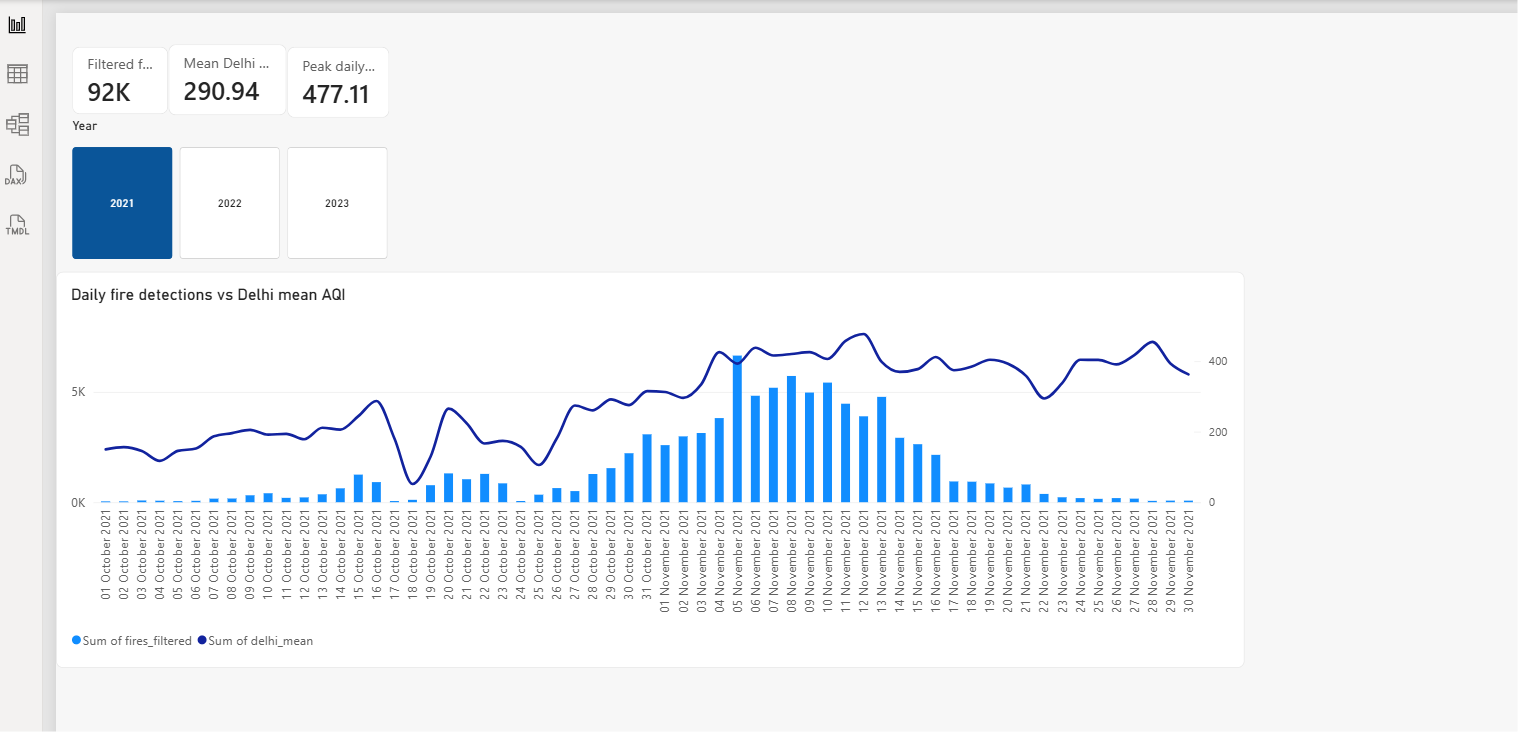

Layout of this report page (visuals, bound fields, positions):
{"tool":"powerbi","page":{"name":"Page 1","canvas":[1920,1080],"ordinal":0},"visuals":[{"type":"advancedSlicerVisual","fields":{"Values":["aqi_fire_daily.Year"]},"box":[18.3,118.3,357.7,159.2],"z":0},{"type":"cardVisual","fields":{"Data":["Sum(aqi_fire_daily.fires_filtered)"]},"box":[18.3,38,108.5,76.1],"z":1},{"type":"cardVisual","fields":{"Data":["Avg(aqi_fire_daily.delhi_mean)"]},"box":[126.8,35.2,133.8,80.3],"z":2},{"type":"cardVisual","fields":{"Data":["Max(aqi_fire_daily.delhi_mean)"]},"box":[260.6,38,115.5,80.3],"z":3},{"type":"lineClusteredColumnComboChart","title":"Daily fire detections vs Delhi mean AQI","fields":{"Category":["aqi_fire_daily.date"],"Y":["Sum(aqi_fire_daily.fires_filtered)"],"Y2":["Sum(aqi_fire_daily.delhi_mean)"]},"box":[0,291.5,1339.4,446.5],"z":4}]}

Visuals, with their boxes on the page's 1920x1080 design canvas (x1, y1, x2, y2). These are canvas units, not pixel positions in the 1518x732 screenshot, which may show the page scaled, cropped or inside an application window:
advancedSlicerVisual - aqi_fire_daily.Year: bbox=(18, 118, 376, 278)
cardVisual - Sum(aqi_fire_daily.fires_filtered): bbox=(18, 38, 127, 114)
cardVisual - Avg(aqi_fire_daily.delhi_mean): bbox=(127, 35, 261, 116)
cardVisual - Max(aqi_fire_daily.delhi_mean): bbox=(261, 38, 376, 118)
"Daily fire detections vs Delhi mean AQI" lineClusteredColumnComboChart: bbox=(0, 292, 1339, 738)
